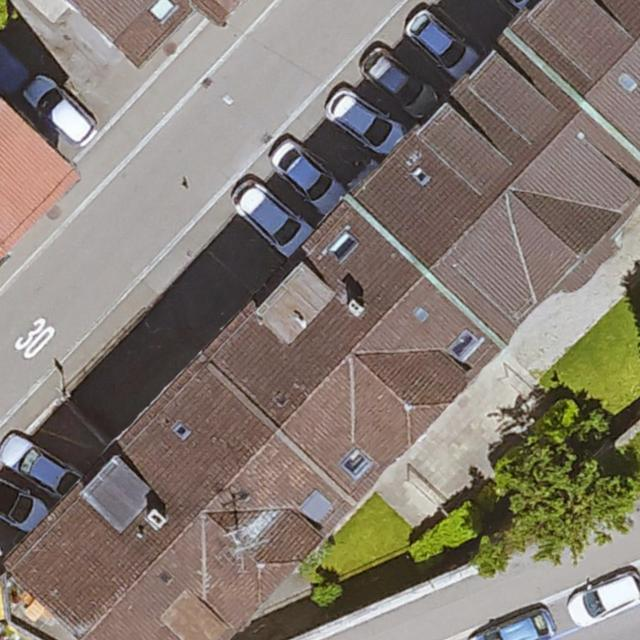tree: (478, 404, 639, 564), (310, 580, 345, 610)
